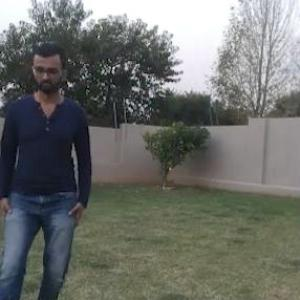follow: (0, 4, 101, 299)
